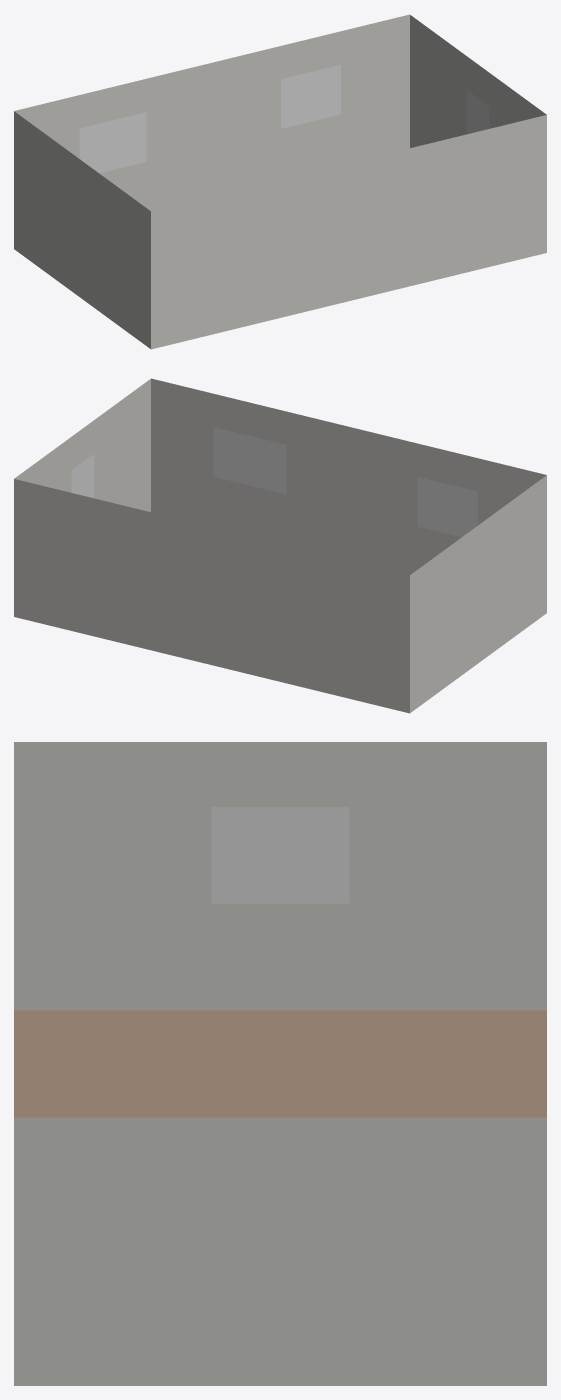
The model's file is Galllery.fbx.
The picture shows the model from 3 angles, top to bottom: view 1: azimuth 30°, elevation 25°; view 2: azimuth 150°, elevation 25°; view 3: azimuth 270°, elevation 25°; orthographic projection. The views are drawn at different scales.
Visible parts, largest first — view 1: Wand_Vorne, Wand_Hinten, Wand_Links, Wand_Rechts, Gemälde_03_Les_mangeurs_de_pommes_de_terre, Gemälde_04_Nacht.jpg, Gemälde_06_Vase; view 2: Wand_Hinten, Wand_Vorne, Wand_Links, Wand_Rechts, Gemälde_02_feld, Gemälde_01_Blumen, Gemälde_06_Vase; view 3: Wand_Rechts, Wand_Links, Boden, Gemälde_05_nacht.
Part boxes in pixels (x1=…): Wand_Vorne: x1=151, y1=115, x2=546, y2=349; Wand_Hinten: x1=14, y1=14, x2=409, y2=211; Wand_Links: x1=14, y1=111, x2=150, y2=348; Wand_Rechts: x1=410, y1=15, x2=546, y2=147; Gemälde_03_Les_mangeurs_de_pommes_de_terre: x1=79, y1=112, x2=146, y2=173; Gemälde_04_Nacht.jpg: x1=281, y1=64, x2=340, y2=128; Gemälde_06_Vase: x1=466, y1=90, x2=489, y2=134; Wand_Hinten: x1=14, y1=479, x2=409, y2=713; Wand_Vorne: x1=151, y1=378, x2=546, y2=575; Wand_Links: x1=410, y1=475, x2=546, y2=712; Wand_Rechts: x1=14, y1=379, x2=150, y2=511; Gemälde_02_feld: x1=213, y1=427, x2=286, y2=494; Gemälde_01_Blumen: x1=417, y1=477, x2=477, y2=537; Gemälde_06_Vase: x1=71, y1=454, x2=94, y2=498; Wand_Rechts: x1=14, y1=1117, x2=546, y2=1385; Wand_Links: x1=14, y1=742, x2=546, y2=1010; Boden: x1=14, y1=1010, x2=546, y2=1117; Gemälde_05_nacht: x1=211, y1=807, x2=349, y2=903.
Size of the model in its own units: 750 by 250 by 450.
